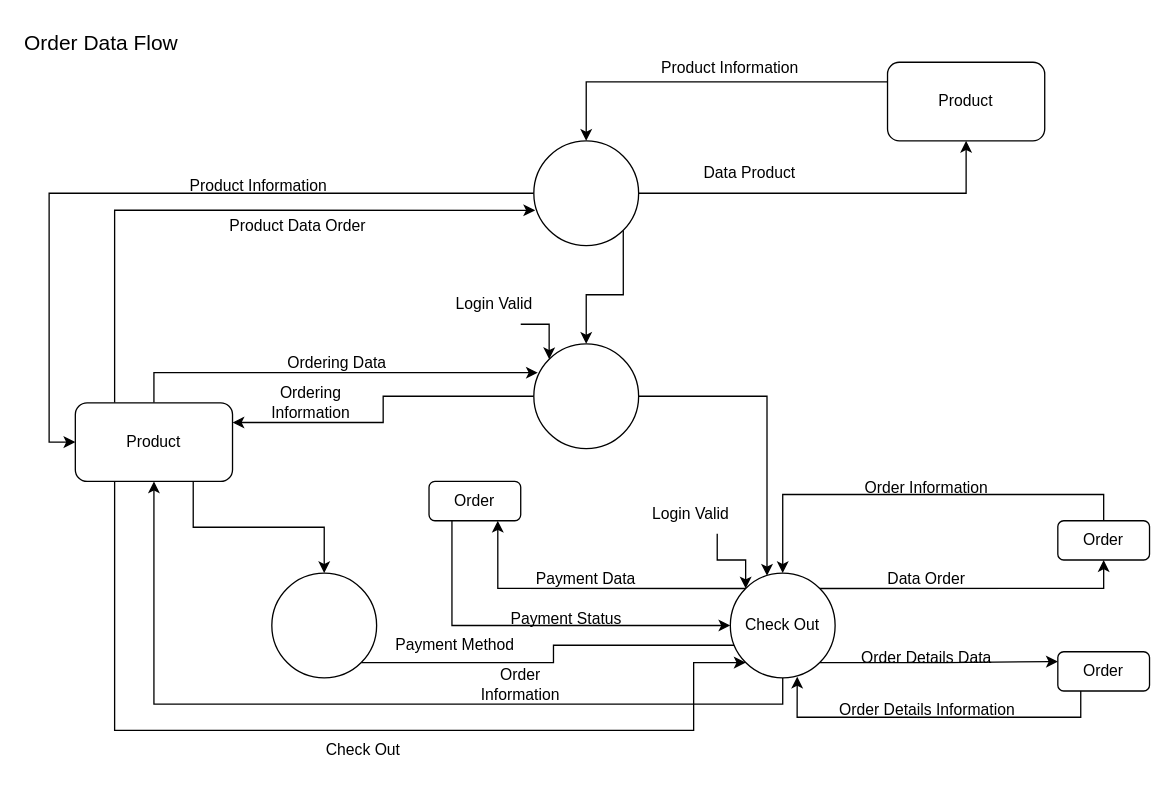
The diagram is 1172 pixels wide and 791 high, and some of its shapes have lost their labels. The box of each missing label's shape, as (x1, y1, x2, y2) in pixels:
Edit Order: (533, 343, 639, 449)
Shipping Information: (271, 572, 377, 678)
Shopping Cart: (533, 140, 639, 246)
